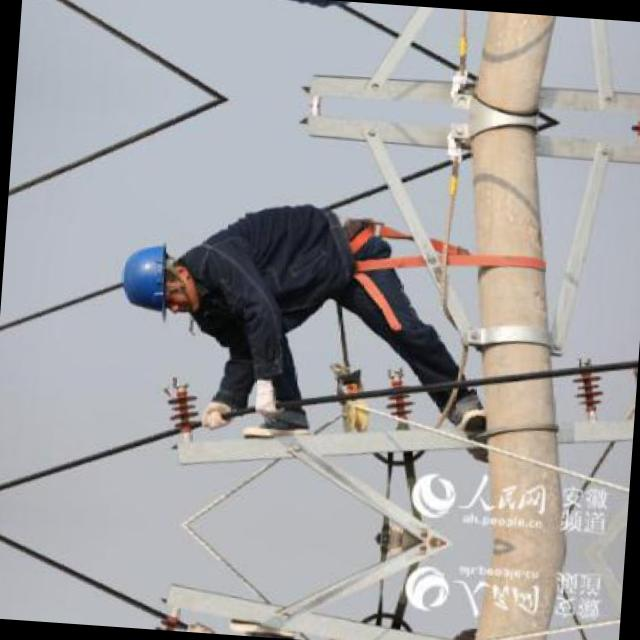helmet: (118, 244, 197, 324)
